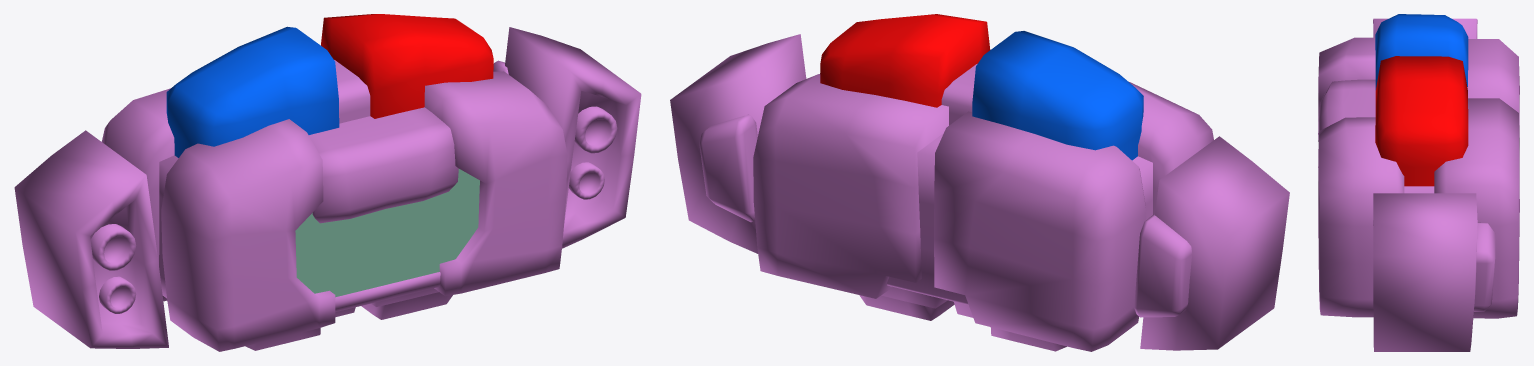
File: Police_small.fbx
The picture shows the model from 3 angles, left to right: view 1: azimuth 30°, elevation 25°; view 2: azimuth 150°, elevation 25°; view 3: azimuth 270°, elevation 25°; orthographic projection. The views are drawn at different scales.
Visible parts, largest first — view 1: body, right, left; view 2: body, right, left; view 3: body, left, right.
Boxes of the visible parts, x1,y1,x2,y2 form: body: [101, 14, 567, 351]; right: [14, 130, 168, 348]; left: [493, 27, 641, 248]; body: [753, 14, 1213, 351]; right: [1134, 136, 1289, 350]; left: [670, 34, 806, 253]; body: [1318, 14, 1519, 318]; left: [1373, 193, 1495, 351]; right: [1373, 18, 1477, 38].
Bounding box in the file's own units: 0.3284 × 0.1542 × 0.1198.
